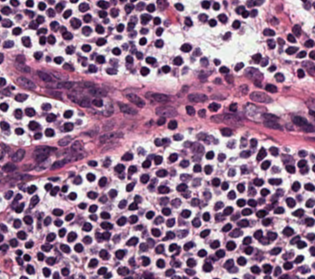nucleus: (250, 91, 271, 102), (146, 92, 169, 102), (245, 67, 262, 80), (127, 93, 144, 106), (156, 106, 176, 116), (118, 103, 136, 114), (99, 132, 118, 142), (188, 93, 207, 102), (292, 116, 307, 126), (264, 120, 280, 129), (191, 143, 203, 155), (35, 146, 55, 153), (89, 88, 106, 96), (33, 152, 48, 161), (220, 114, 239, 121), (38, 71, 51, 81), (58, 136, 71, 146), (51, 160, 65, 169), (57, 81, 73, 88), (77, 97, 89, 106), (257, 148, 266, 160), (221, 127, 232, 136), (262, 113, 277, 119), (63, 122, 73, 131), (265, 84, 276, 92), (28, 121, 39, 129), (302, 123, 313, 131), (158, 185, 169, 193), (230, 229, 241, 237), (100, 222, 112, 229), (252, 53, 261, 62), (173, 56, 182, 65), (72, 141, 81, 150), (286, 198, 295, 207), (223, 206, 232, 215), (62, 31, 72, 39), (92, 98, 102, 106), (209, 103, 219, 111), (186, 105, 194, 115), (122, 152, 132, 160), (114, 164, 124, 172), (253, 178, 263, 186), (283, 227, 293, 235), (263, 28, 274, 35), (156, 169, 167, 176), (267, 39, 275, 48), (200, 57, 208, 66), (234, 62, 243, 70), (275, 73, 284, 81), (225, 74, 233, 83), (63, 110, 72, 118), (46, 113, 55, 121), (168, 120, 176, 129), (98, 177, 106, 186), (192, 178, 200, 187), (177, 183, 186, 191), (50, 186, 58, 195), (171, 198, 180, 206), (117, 217, 126, 225), (305, 217, 313, 226), (192, 218, 200, 227), (222, 223, 231, 231), (151, 228, 160, 236), (200, 229, 209, 237), (181, 44, 191, 51), (286, 47, 296, 54), (63, 63, 73, 70), (199, 71, 206, 81), (293, 209, 303, 216), (257, 210, 267, 217), (238, 219, 248, 226), (287, 34, 295, 42), (47, 35, 55, 43), (112, 47, 120, 55), (96, 55, 104, 63), (88, 64, 96, 72), (140, 67, 148, 75), (157, 117, 165, 125), (45, 128, 53, 136), (269, 147, 277, 155), (169, 153, 177, 161), (154, 156, 162, 164), (261, 161, 269, 169), (286, 165, 294, 173), (128, 166, 136, 174), (140, 174, 148, 182), (73, 176, 81, 184), (118, 200, 126, 208), (214, 201, 222, 209), (162, 207, 170, 215), (129, 215, 137, 223), (166, 218, 174, 226), (96, 38, 105, 45), (219, 66, 228, 73), (41, 103, 50, 110), (197, 133, 206, 140), (297, 160, 306, 167), (204, 165, 211, 174), (180, 174, 189, 181), (292, 182, 299, 191), (237, 183, 244, 192), (31, 196, 38, 205), (181, 210, 190, 217), (106, 68, 116, 74), (240, 151, 250, 157), (268, 179, 280, 184), (39, 36, 46, 44), (305, 39, 313, 46), (155, 40, 163, 47), (82, 44, 90, 51), (297, 51, 305, 58), (54, 56, 62, 63), (260, 58, 267, 66), (297, 69, 304, 77), (240, 85, 247, 93), (229, 103, 236, 111), (198, 109, 205, 117), (154, 138, 161, 146), (103, 158, 110, 166), (142, 160, 150, 167), (193, 164, 200, 172), (87, 173, 94, 181), (212, 178, 219, 186), (221, 182, 228, 190), (305, 183, 313, 190), (109, 189, 116, 197), (88, 191, 96, 198), (203, 191, 210, 199), (68, 192, 76, 199), (160, 197, 168, 204), (191, 198, 199, 205), (237, 199, 245, 206), (248, 199, 256, 206), (129, 202, 137, 209), (89, 205, 97, 212), (65, 213, 73, 220), (215, 214, 223, 221), (155, 216, 163, 223), (262, 218, 270, 225), (83, 223, 91, 230), (58, 228, 65, 236), (179, 230, 187, 237), (146, 57, 155, 63), (173, 134, 182, 140), (250, 138, 256, 147), (274, 207, 283, 213), (53, 209, 62, 215), (242, 209, 251, 215), (100, 212, 109, 218), (223, 32, 230, 39), (139, 38, 146, 45), (277, 38, 284, 45), (66, 46, 73, 53), (34, 52, 41, 59), (162, 65, 169, 72), (206, 151, 213, 158), (218, 153, 225, 160), (300, 166, 307, 173), (228, 169, 235, 176), (44, 183, 51, 190), (126, 183, 133, 190), (261, 189, 268, 196), (182, 190, 189, 197), (228, 191, 235, 198), (99, 195, 106, 202), (134, 195, 141, 202), (306, 199, 313, 206), (146, 211, 153, 218), (54, 219, 61, 226), (161, 138, 169, 144), (88, 160, 96, 166), (180, 160, 188, 166), (249, 187, 255, 195), (203, 212, 209, 220), (309, 50, 314, 59), (136, 52, 142, 59), (126, 55, 132, 62), (268, 65, 275, 71), (34, 133, 41, 139), (227, 141, 234, 147), (299, 150, 306, 156), (241, 165, 247, 172), (231, 214, 238, 220), (44, 217, 50, 224), (241, 138, 246, 146), (90, 214, 96, 220), (129, 32, 136, 37), (184, 141, 191, 146), (62, 185, 67, 192), (78, 203, 85, 208), (194, 49, 200, 54), (214, 78, 220, 83), (214, 59, 219, 64), (277, 190, 282, 195), (50, 177, 58, 180), (46, 56, 50, 61), (135, 226, 141, 229), (274, 167, 278, 171), (259, 199, 263, 203), (310, 111, 313, 115)
